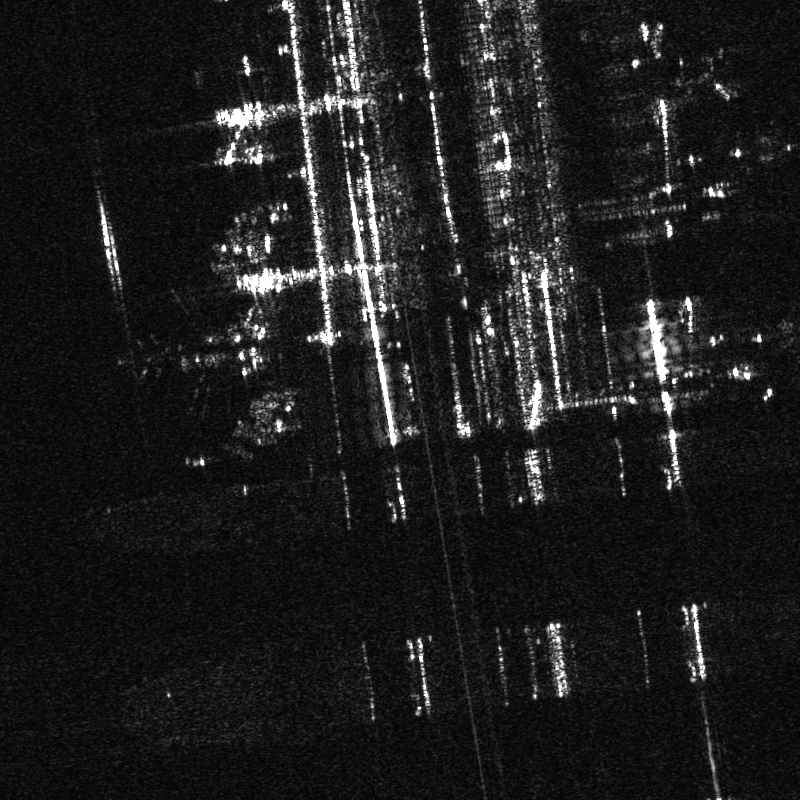A330: (115, 284, 247, 429)
